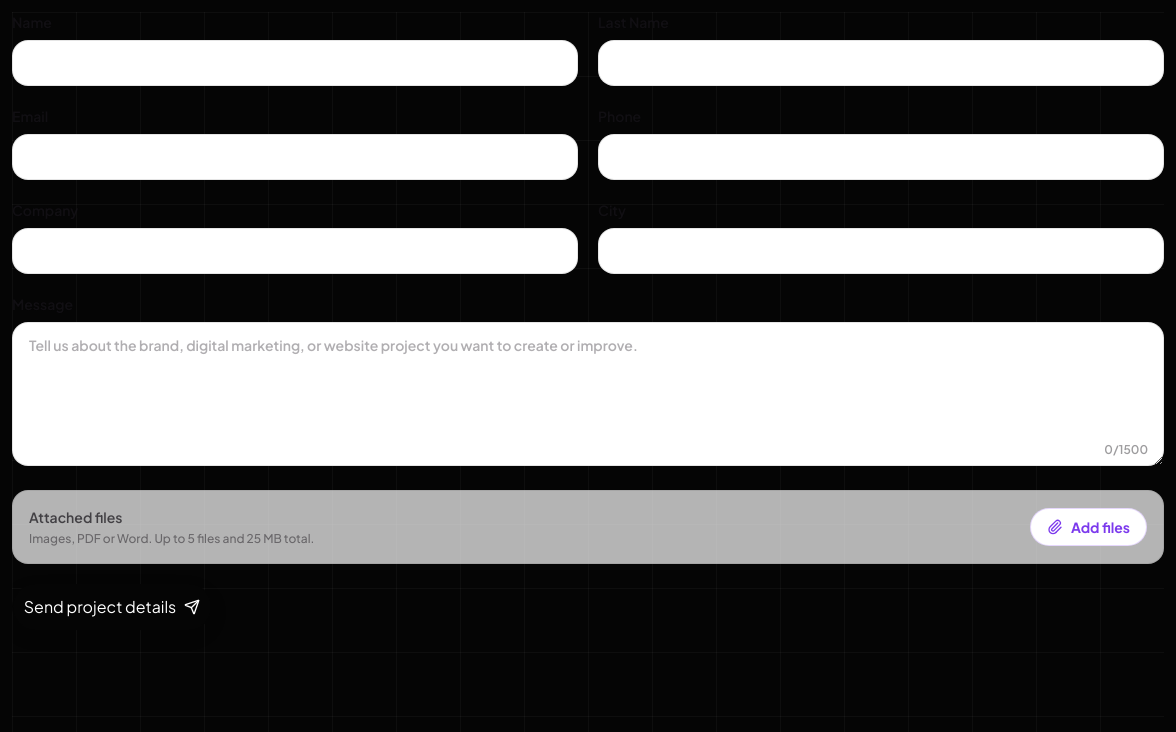
Test case: ContactForm › should show failure and allow returning to the form
The width and height of the screenshot is (1176, 732).
In the field labelled "Name": (295,63) left=12, top=40, right=578, bottom=86, type "Pato"
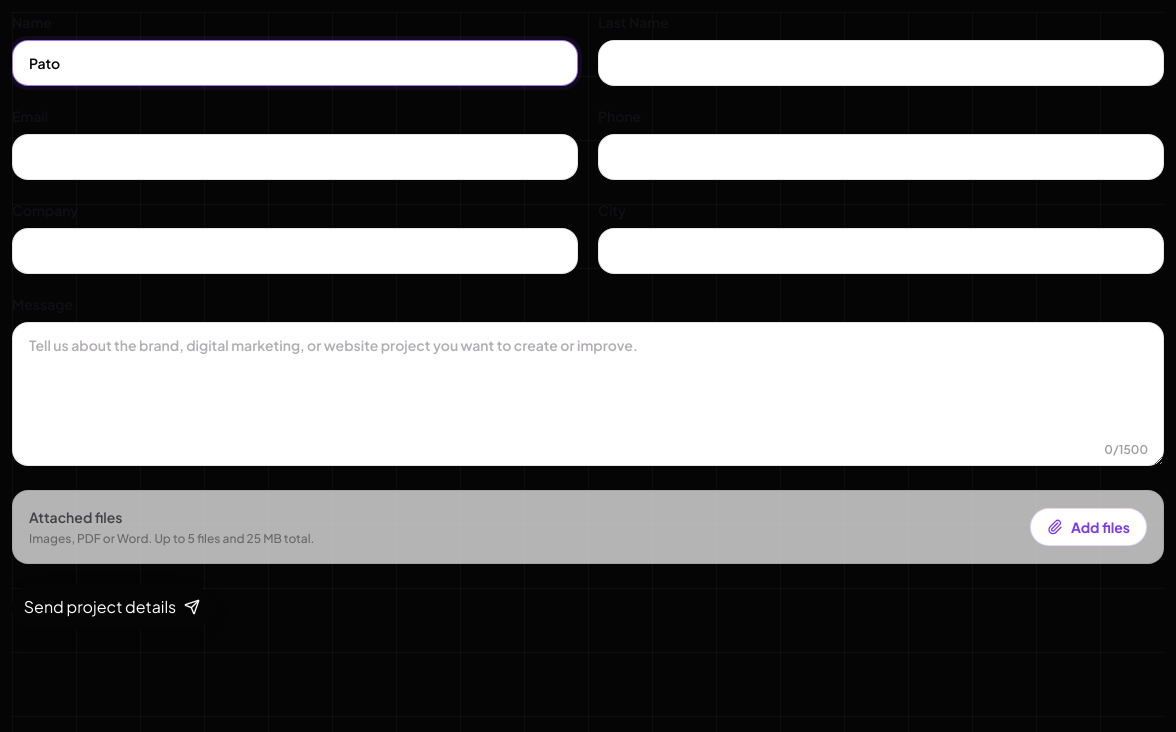
In the field labelled "Last Name": (881,63) left=598, top=40, right=1164, bottom=86, type "Anabalon"
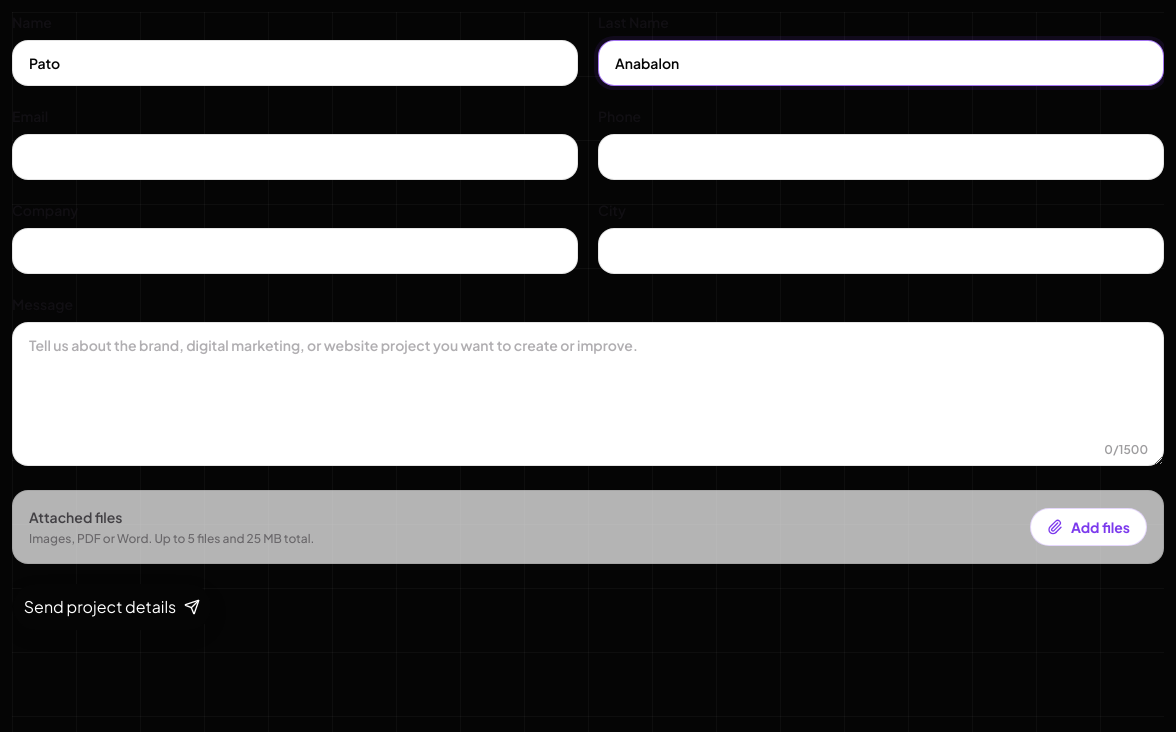
In the field labelled "Email": (295,157) left=12, top=134, right=578, bottom=180, type "pato@example.com"
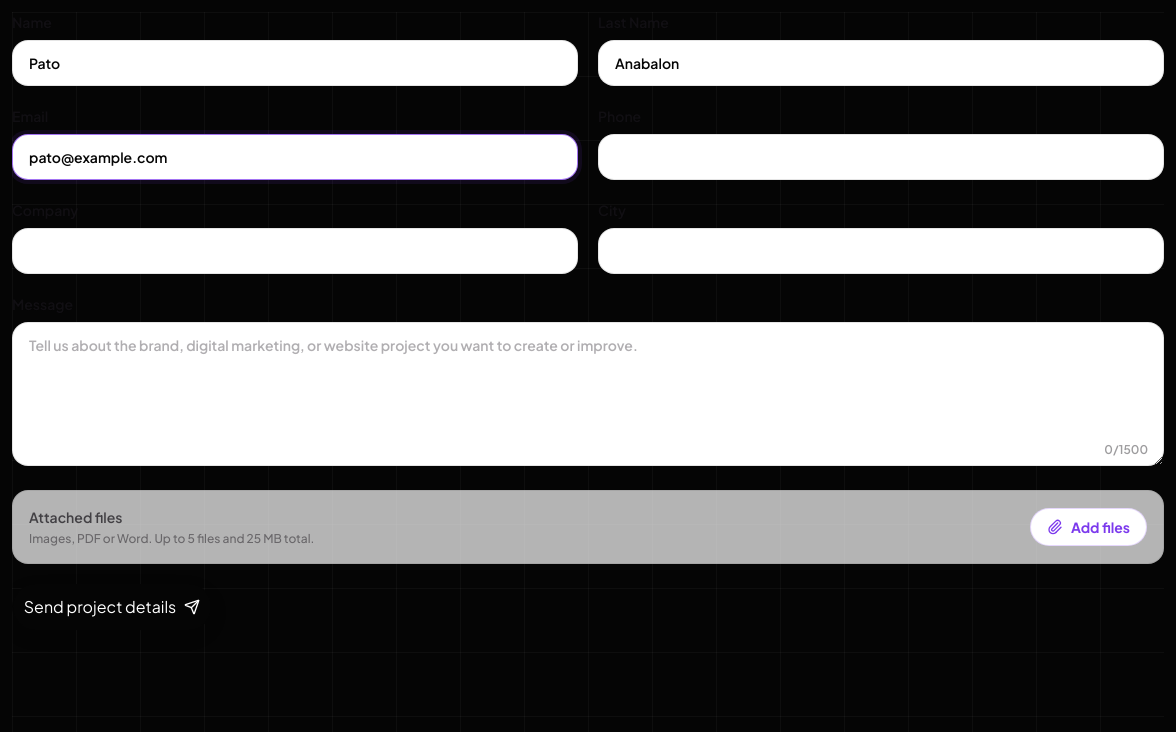
In the text box labelled "Message 0/1500": (588,394) left=12, top=322, right=1164, bottom=466, type "I need a website redesign."
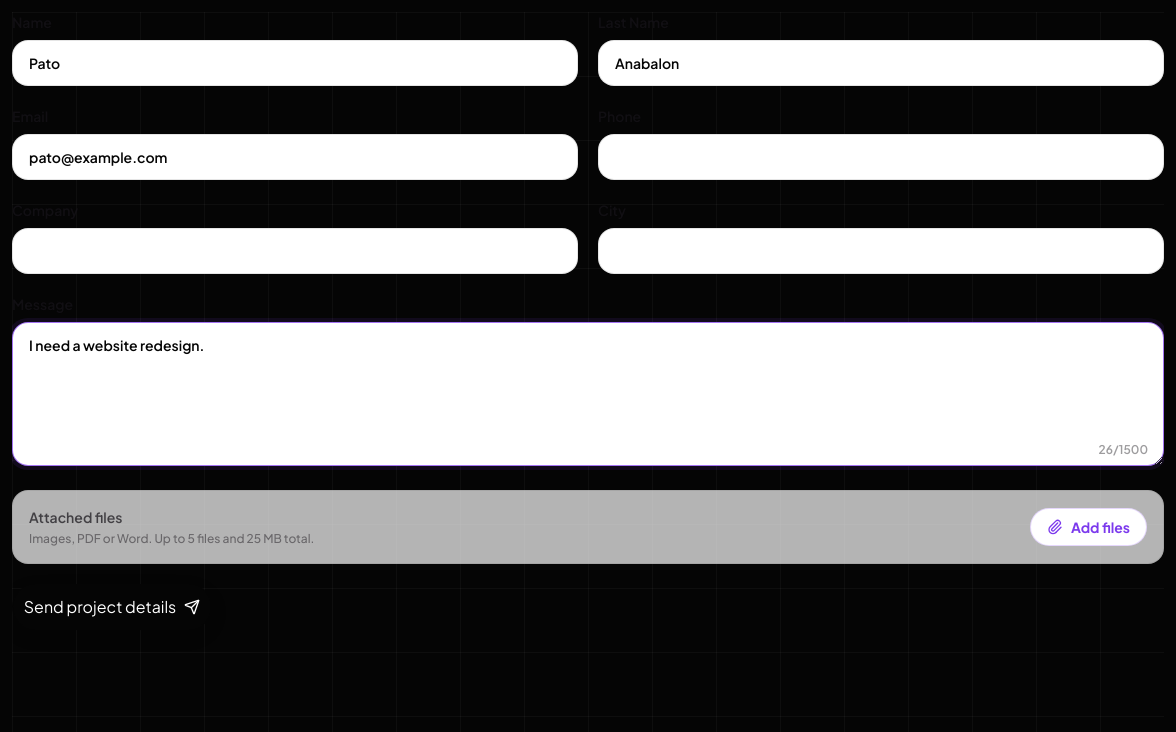
Submit the form with test id "contact-form"
Wait 3550 ms
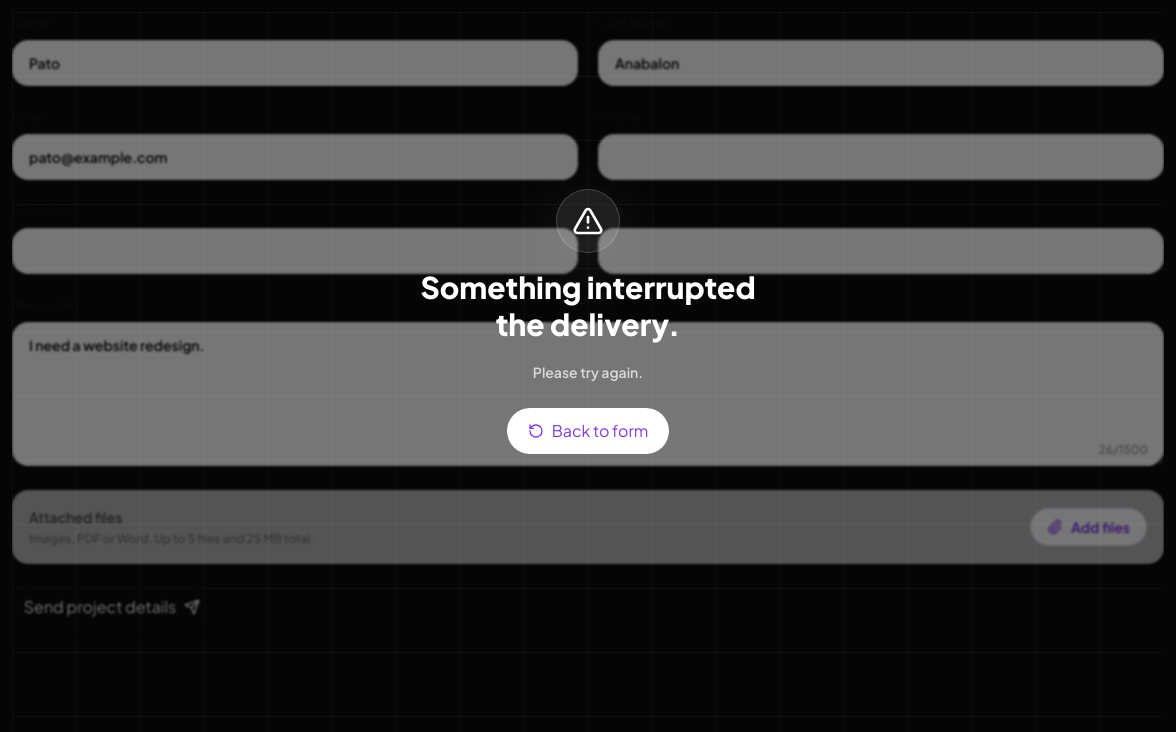
Now the text "Something interrupted the delivery." is shown, box left=420, top=268, right=756, bottom=343
Click the button "Back to form": (588,430) left=507, top=408, right=669, bottom=454
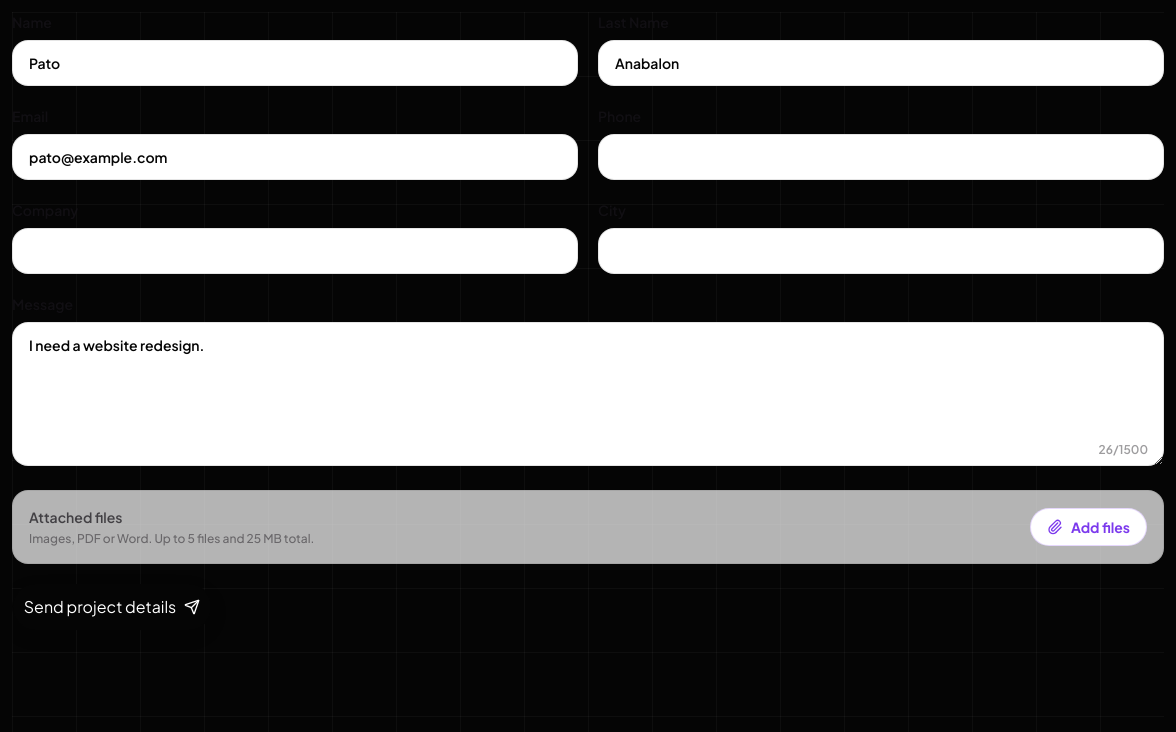
Now the text "Something interrupted" is gone
